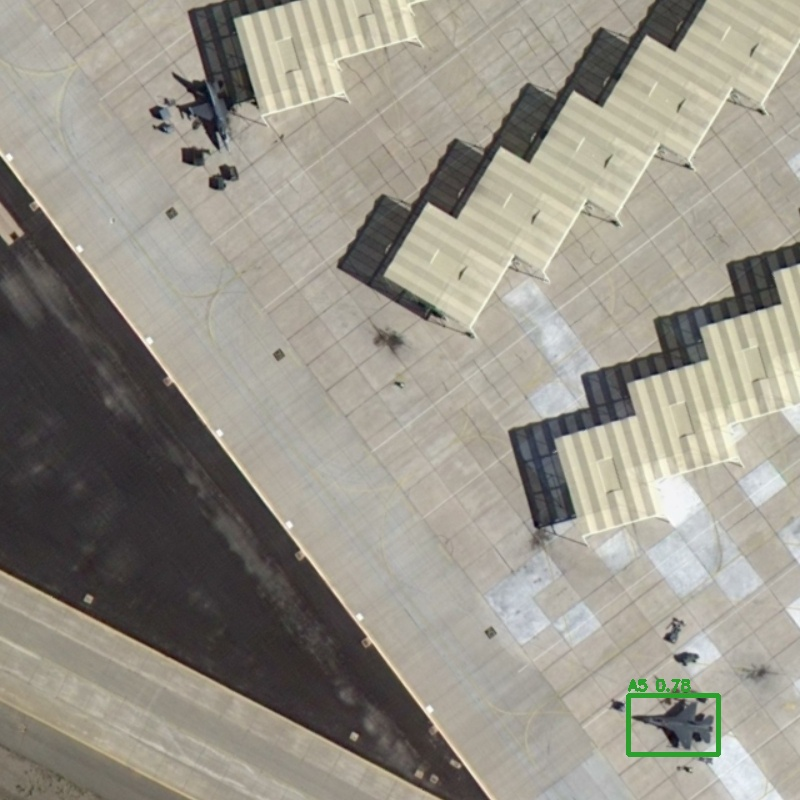A5: (628, 695, 718, 754)
